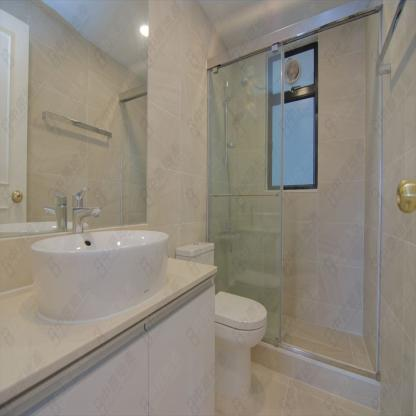Exhaust Fan: (284, 58, 300, 82)
Faucet: (42, 189, 103, 231)
Toilet: (214, 290, 269, 397), (175, 241, 216, 265)
Toilet Sink: (32, 229, 167, 321)
Water Cubicle: (204, 1, 383, 380)
